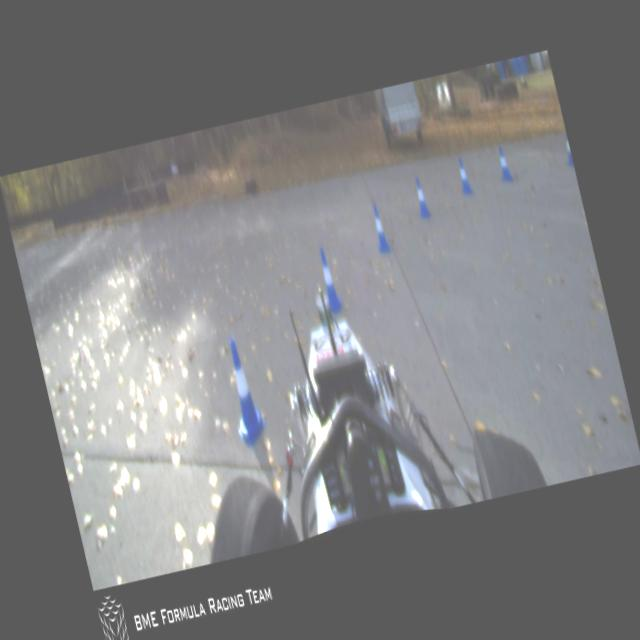blue_cone: (218, 336, 272, 450), (312, 244, 344, 316), (368, 202, 390, 252), (410, 174, 431, 217), (454, 157, 474, 196), (494, 144, 514, 182), (560, 130, 574, 168)
